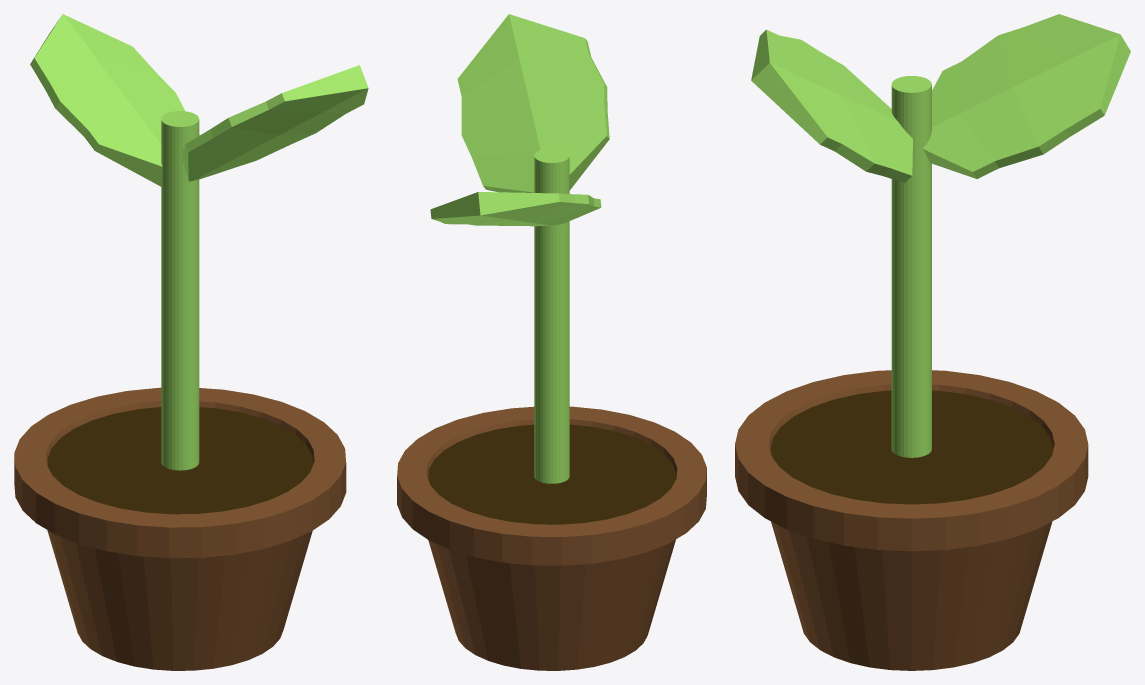
File: pottedplant.fbx
The picture shows the model from 3 angles, left to right: view 1: azimuth 30°, elevation 25°; view 2: azimuth 150°, elevation 25°; view 3: azimuth 270°, elevation 25°; orthographic projection. The views are drawn at different scales.
Parts seen in each view (by area): view 1: Cylinder, Cylinder.001, Cube, Cylinder.002, Cube.001; view 2: Cylinder, Cube.001, Cylinder.001, Cylinder.002, Cube; view 3: Cylinder, Cylinder.001, Cube, Cylinder.002, Cube.001.
Boxes of the visible parts, left/top/right/bottom form: Cylinder: left=14, top=387, right=346, bottom=670; Cylinder.001: left=47, top=407, right=312, bottom=514; Cube: left=30, top=14, right=199, bottom=186; Cylinder.002: left=161, top=111, right=199, bottom=470; Cube.001: left=181, top=65, right=368, bottom=181; Cylinder: left=397, top=406, right=706, bottom=670; Cube.001: left=457, top=14, right=609, bottom=192; Cylinder.001: left=428, top=424, right=675, bottom=524; Cylinder.002: left=534, top=148, right=569, bottom=483; Cube: left=430, top=192, right=601, bottom=226; Cylinder: left=735, top=370, right=1088, bottom=670; Cylinder.001: left=770, top=390, right=1052, bottom=504; Cube: left=922, top=14, right=1130, bottom=178; Cylinder.002: left=891, top=76, right=931, bottom=457; Cube.001: left=751, top=29, right=912, bottom=182.
Size of the model in its own units: 141 by 274 by 158.
